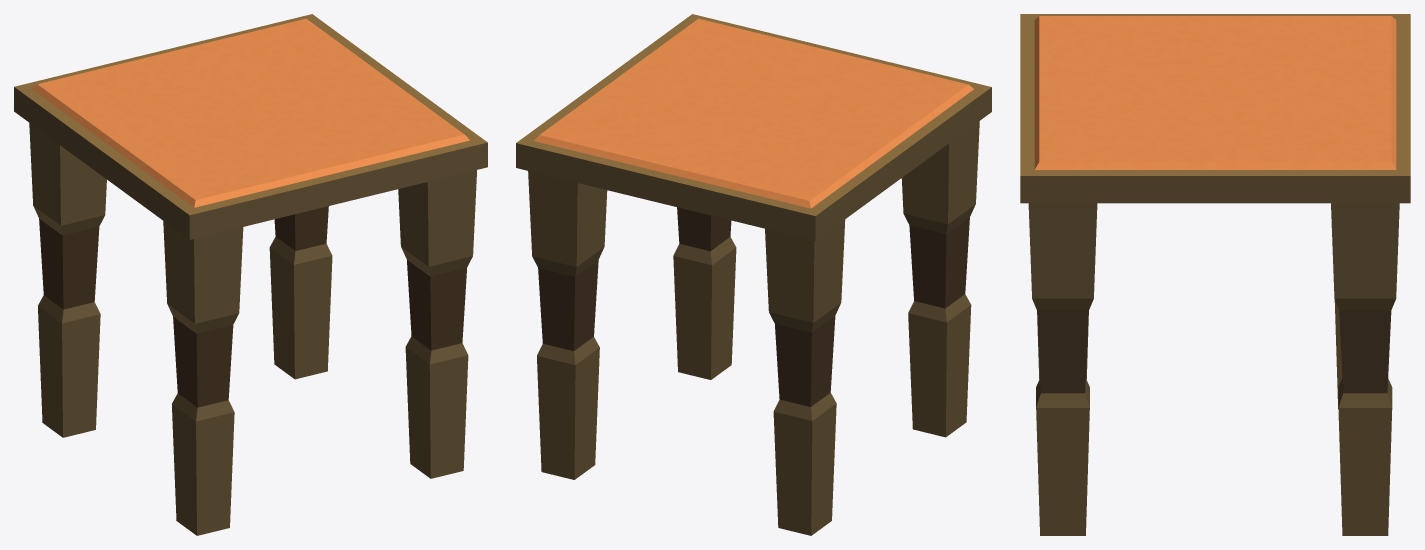
The model's file is chair3.fbx.
The picture shows the model from 3 angles, left to right: view 1: azimuth 30°, elevation 25°; view 2: azimuth 150°, elevation 25°; view 3: azimuth 270°, elevation 25°; orthographic projection. The views are drawn at different scales.
Visible parts, largest first — view 1: Object069; view 2: Object069; view 3: Object069.
Boxes of the visible parts, bbox=[...] form: Object069: bbox=[14, 14, 487, 535]; Object069: bbox=[516, 14, 991, 535]; Object069: bbox=[1020, 14, 1410, 535].
Bounding box in the file's own units: 20.02 × 21.58 × 20.41.
